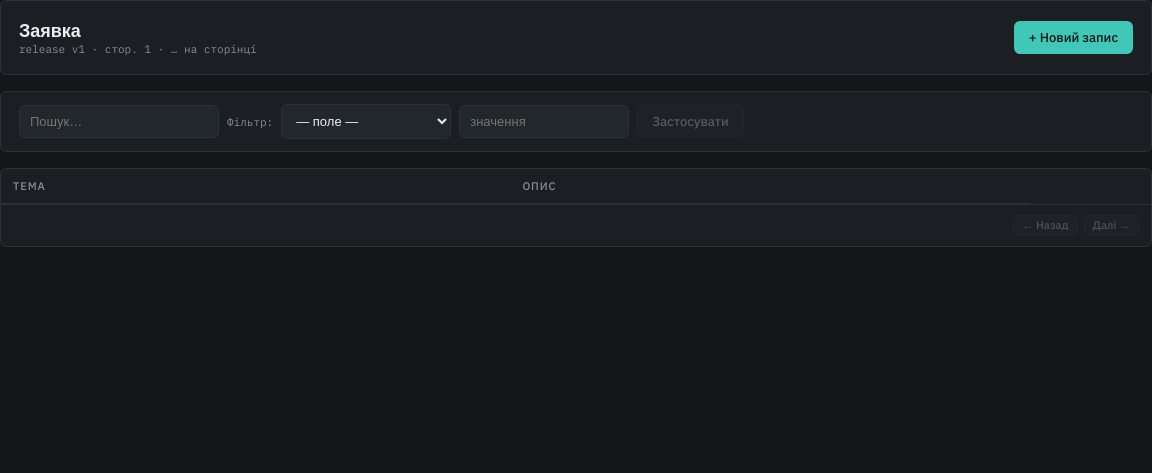
Test: EntityWorkspace — створення запису › Скасувати закриває форму
Click the button "+ Новий запис" at (1073, 38), box [1014,21,1133,54]
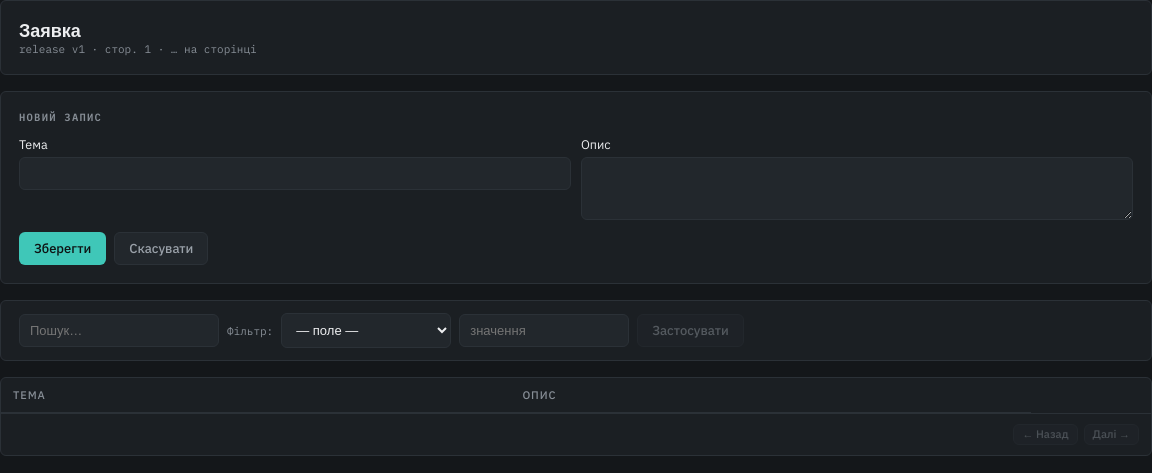
expect the text "Новий запис" is shown: met, box [19,110,102,124]
Click the button "Скасувати" at (161, 248), box [114,232,208,265]
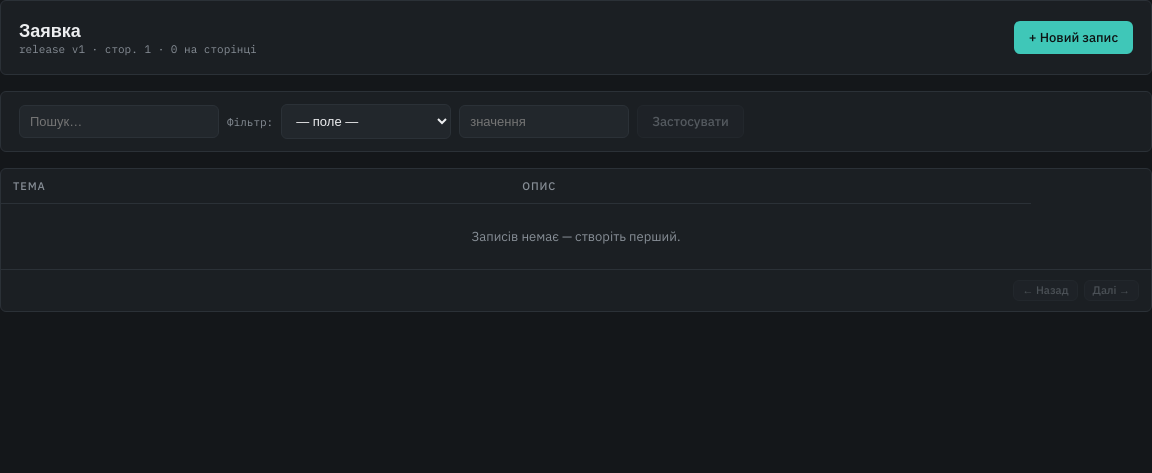
expect the button "+ Новий запис" is shown: met, box [1014,21,1133,54]
